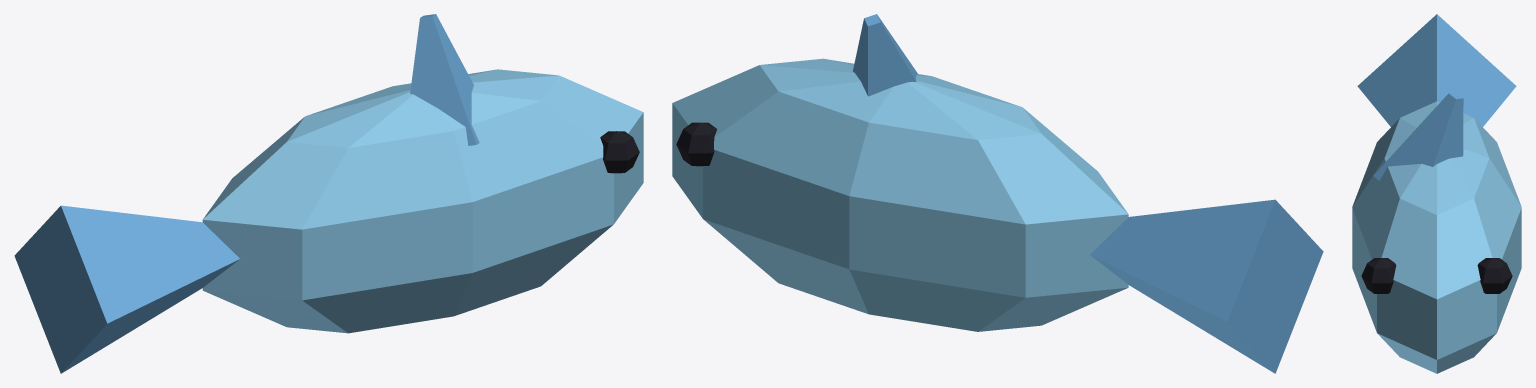
Rendered from fish.glb.
3 views of the same model, side by side, from view 1: azimuth 30°, elevation 25°; view 2: azimuth 150°, elevation 25°; view 3: azimuth 270°, elevation 25° (orthographic). The views are drawn at different scales.
Visible parts, largest first — view 1: fish; view 2: fish; view 3: fish.
Boxes of the visible parts, x1=… form: fish: x1=14, y1=14, x2=643, y2=373; fish: x1=672, y1=14, x2=1323, y2=373; fish: x1=1352, y1=14, x2=1521, y2=373.
Size of the model in its own units: 0.7239 by 0.3452 by 0.213.
